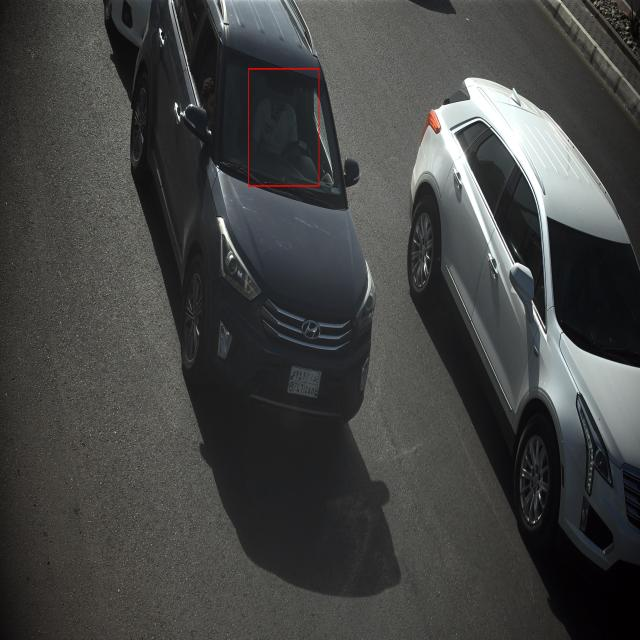windshield: (218, 44, 348, 211)
